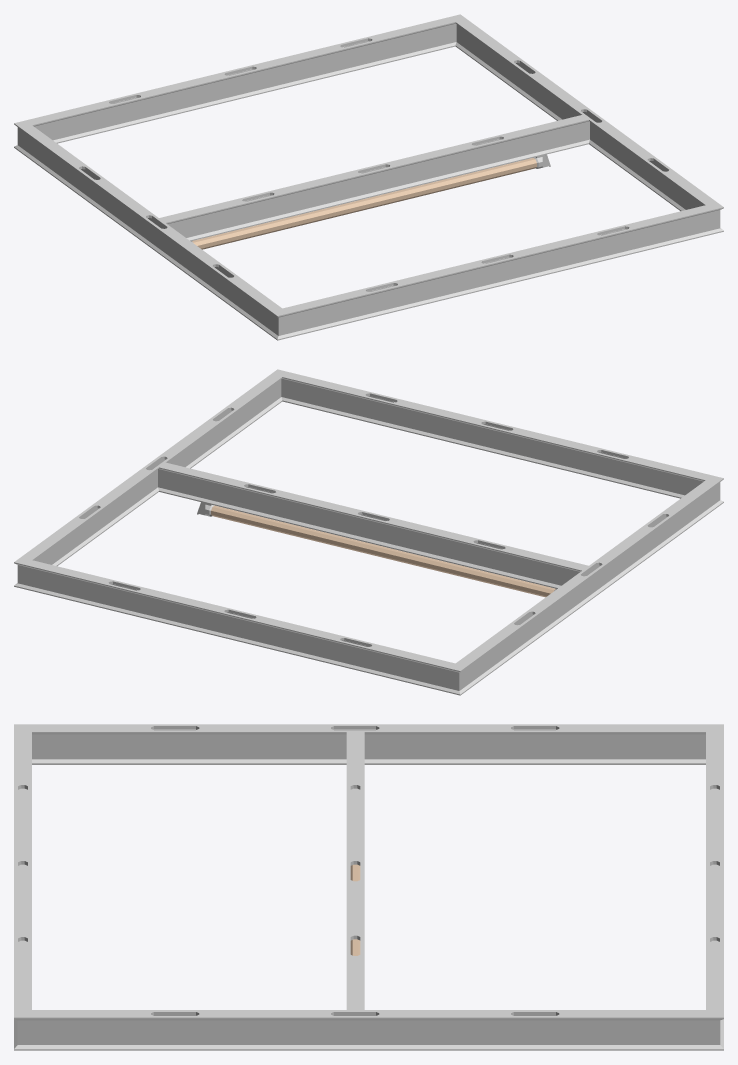
File: SM_Roof_02.glb
3 views of the same model, one above another, from view 1: azimuth 30°, elevation 25°; view 2: azimuth 150°, elevation 25°; view 3: azimuth 270°, elevation 25° (orthographic). The views are drawn at different scales.
Parts seen in each view (by area): view 1: SM_Roof_02; view 2: SM_Roof_02; view 3: SM_Roof_02.
Boxes of the visible parts, <box> form: SM_Roof_02: <box>14,14,723,340</box>; SM_Roof_02: <box>14,369,723,695</box>; SM_Roof_02: <box>14,724,723,1050</box>.
Size of the model in its own units: 1.91 by 0.1614 by 1.95.
